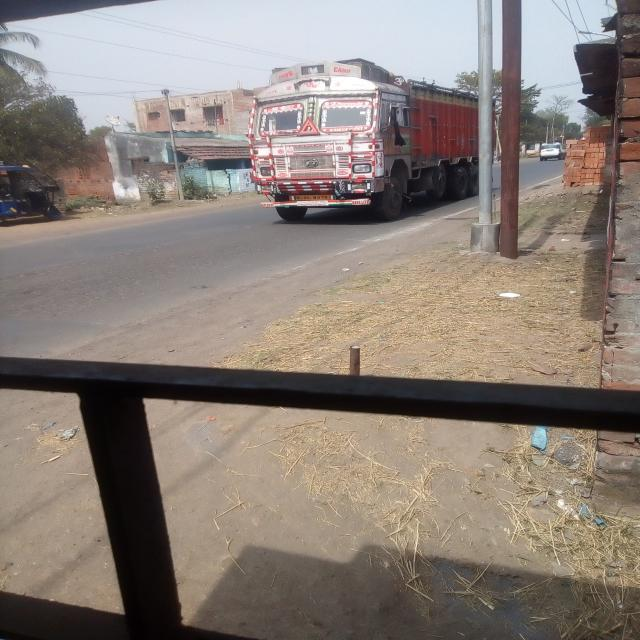Truck: (217, 54, 533, 218)
